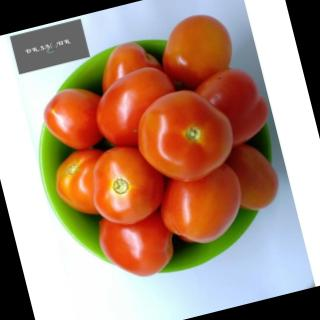Tomat: (127, 80, 243, 193), (87, 61, 187, 154), (153, 161, 253, 253), (82, 138, 173, 233), (153, 8, 241, 95)
